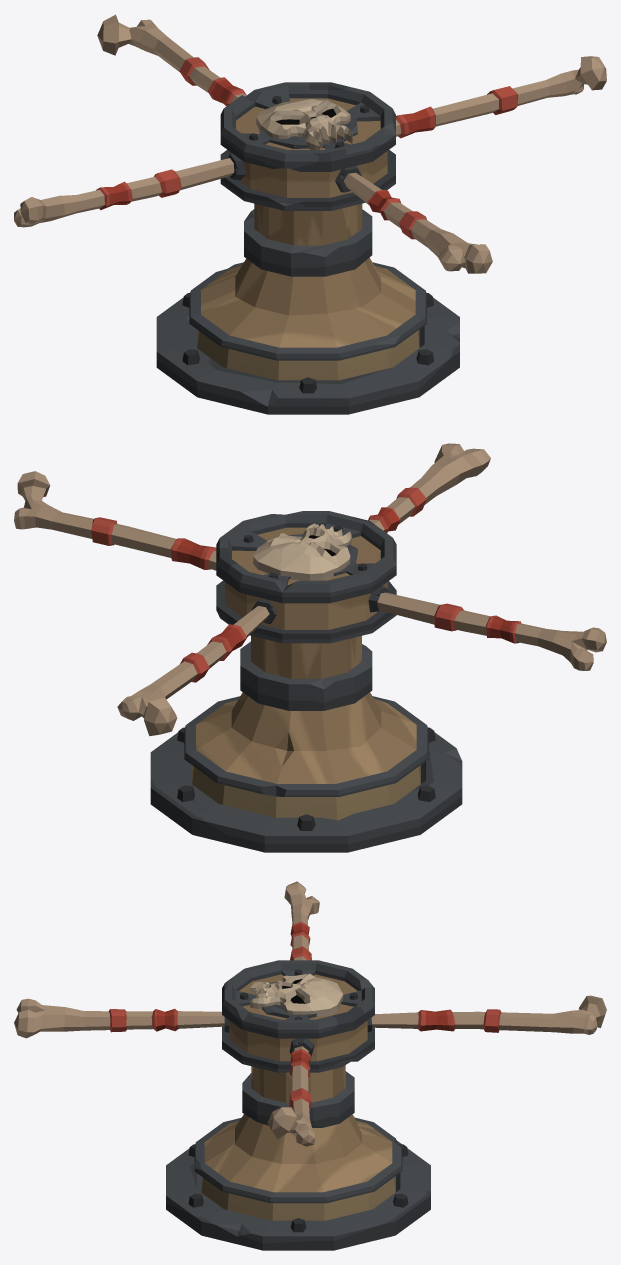
File: SM_Veh_Capstan_02.fbx
3 renders of one model, top to bottom at view 1: azimuth 30°, elevation 25°; view 2: azimuth 150°, elevation 25°; view 3: azimuth 270°, elevation 25°, orthographic. The views are drawn at different scales.
Parts seen in each view (by area): view 1: SM_Veh_Capstan_02; view 2: SM_Veh_Capstan_02; view 3: SM_Veh_Capstan_02.
Part boxes in pixels (x1,y1,x2,y2): SM_Veh_Capstan_02: [14, 14, 606, 414]; SM_Veh_Capstan_02: [14, 443, 606, 852]; SM_Veh_Capstan_02: [14, 881, 606, 1250].
Bounding box in the file's own units: 302 × 122 × 308.
